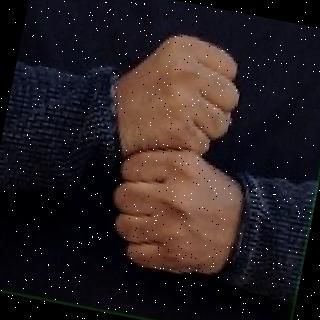G: (85, 22, 277, 294)
